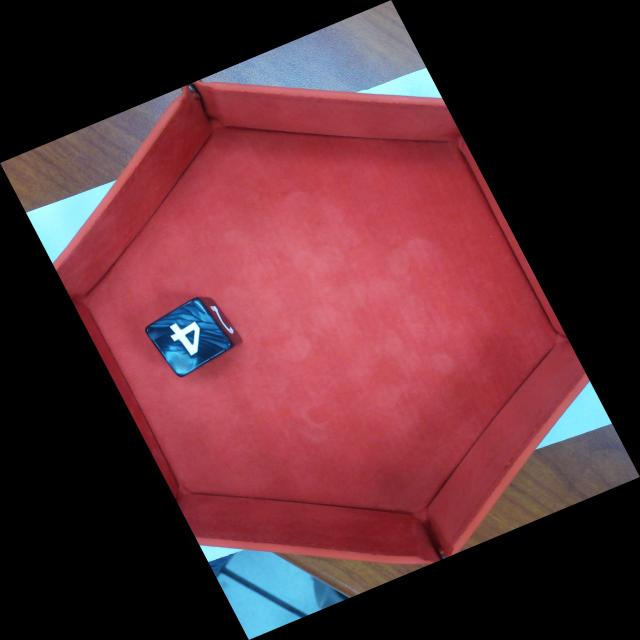dice: (144, 295, 236, 381)
